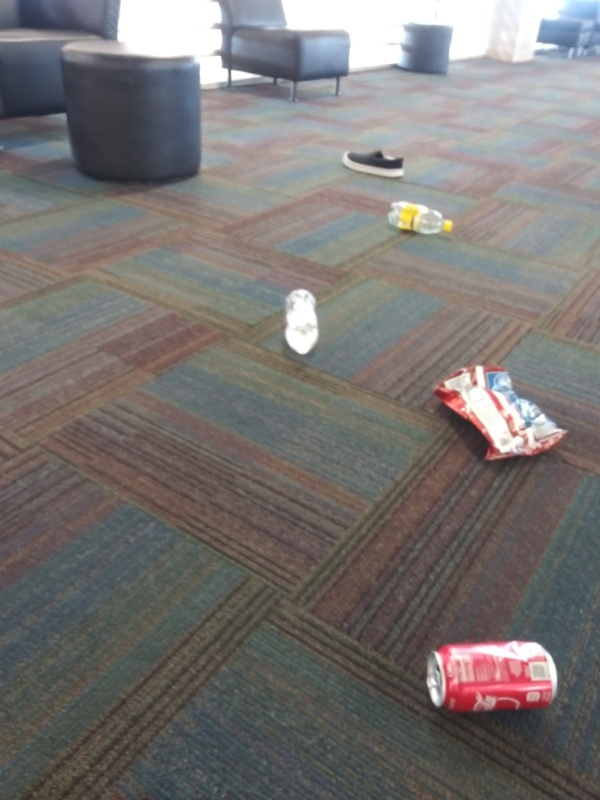bag: (429, 357, 571, 471)
bottle: (279, 287, 324, 361), (382, 195, 455, 239)
can: (421, 635, 561, 720)
